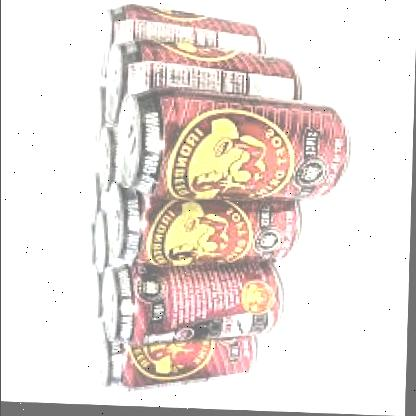Can: (113, 86, 356, 208), (102, 38, 310, 140), (106, 184, 304, 274), (100, 264, 290, 352), (92, 320, 268, 404), (96, 3, 268, 88), (92, 126, 124, 198), (88, 86, 112, 148), (85, 266, 107, 330), (92, 212, 110, 278), (84, 172, 102, 224)
